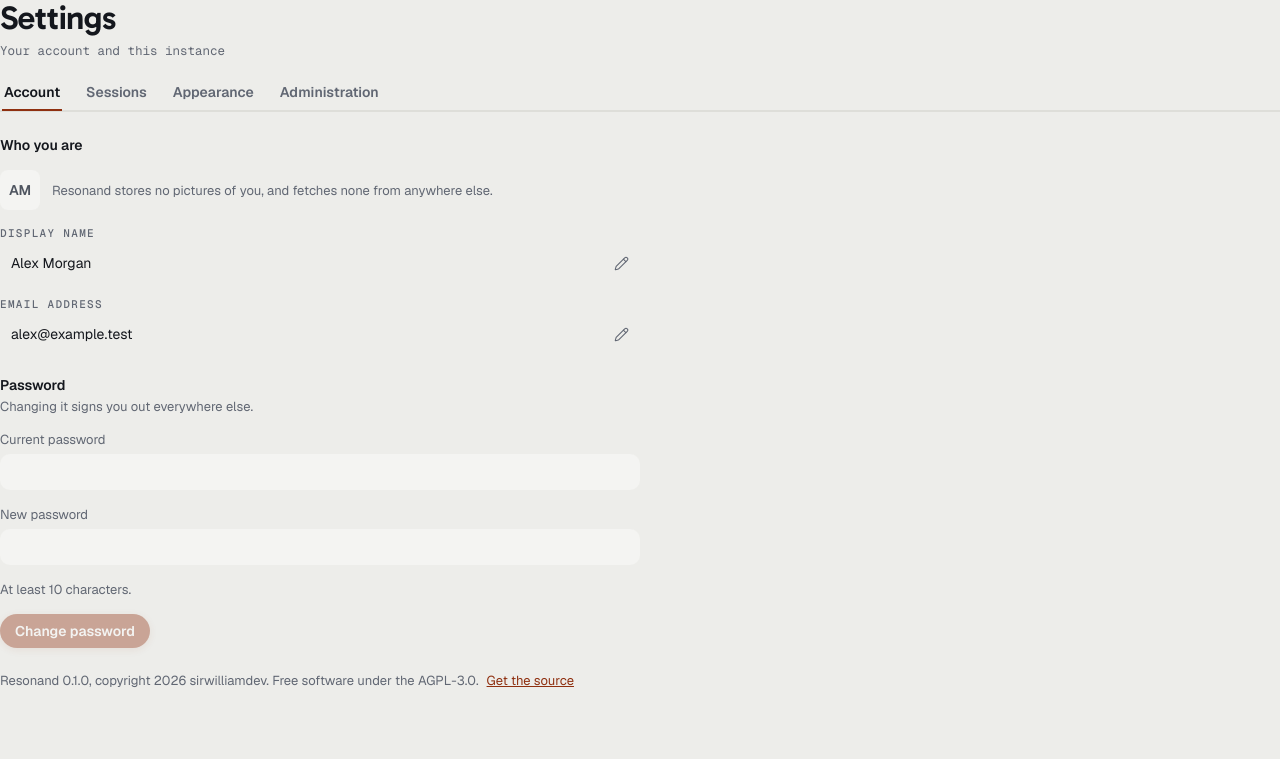
Test: running the instance › is not on screen until somebody chooses it
Click the tab "Administration" at (329, 97), box [278,83,381,111]
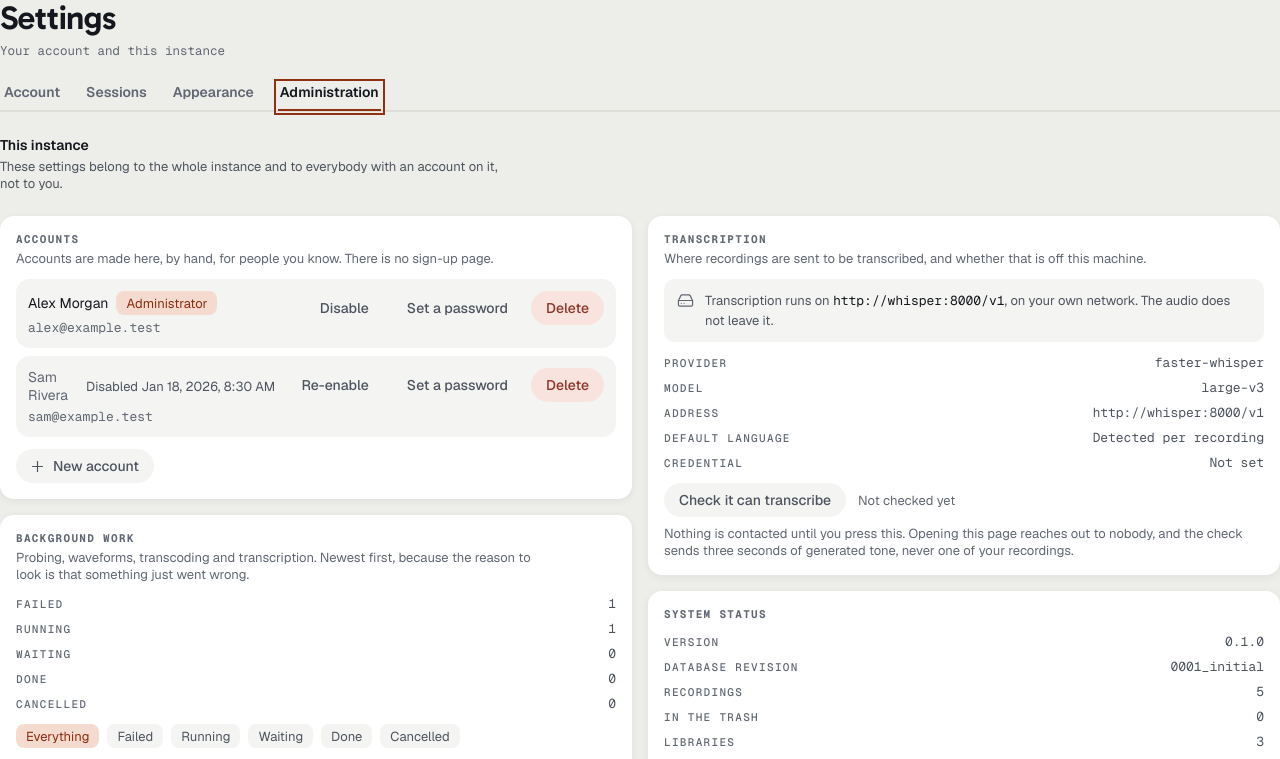
expect the heading "This instance" is shown: met, box [0,136,89,154]
